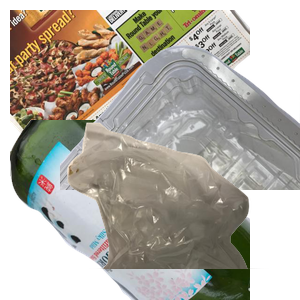glass: (10, 120, 250, 300)
paper: (10, 10, 250, 190)
plastic: (60, 43, 300, 223)
trash: (65, 120, 300, 300)
